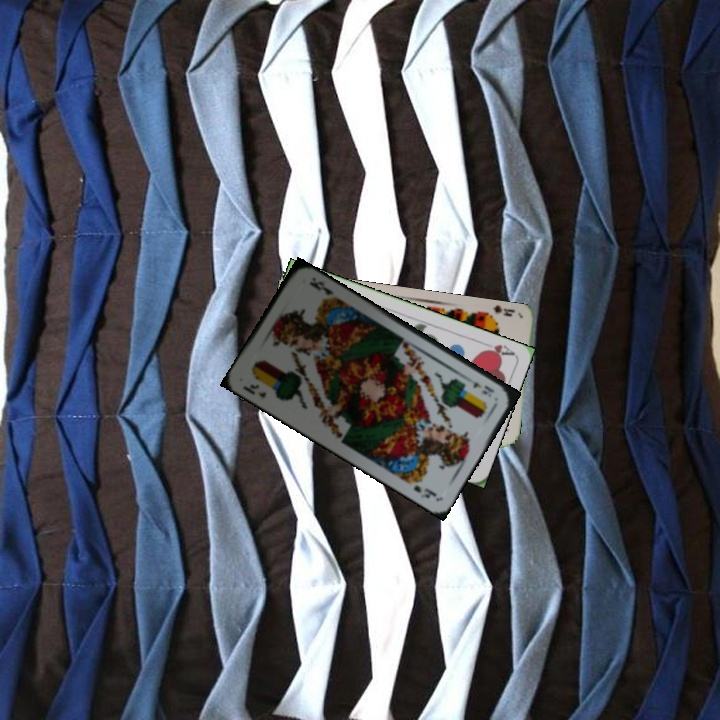EK: (463, 373, 497, 397), (239, 380, 269, 400)
HA: (477, 337, 516, 360)
S9: (480, 303, 518, 321)
